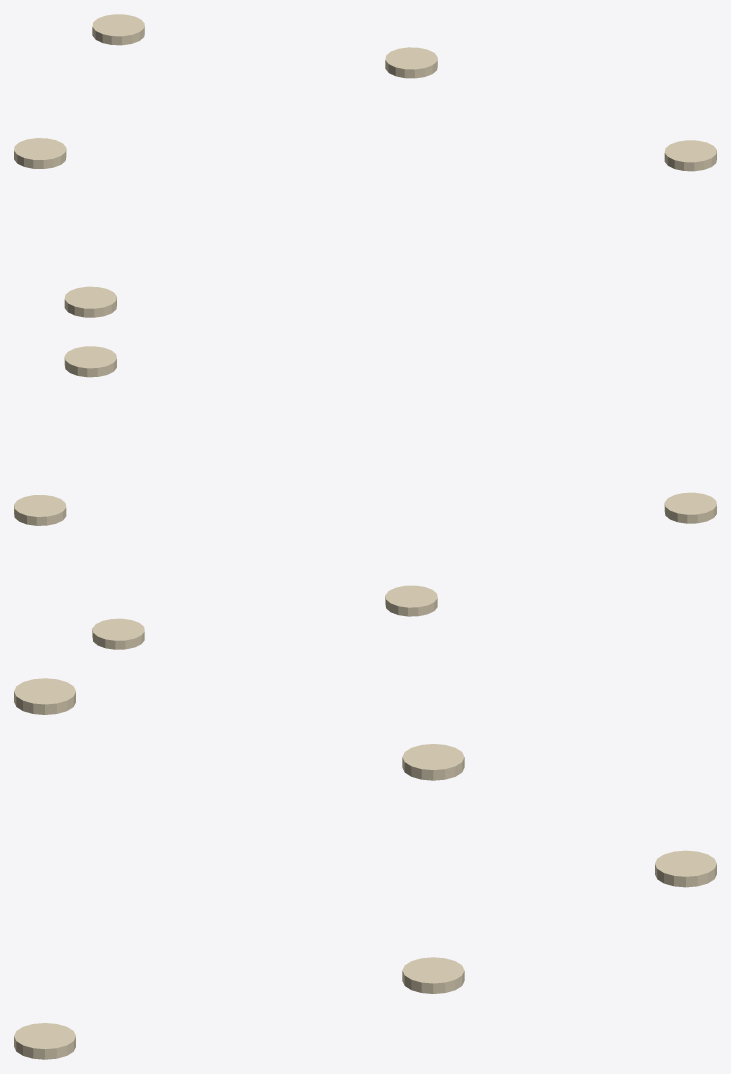
File: EggPedestals_Trim.fbx
3 renders of one model, top to bottom at view 1: azimuth 30°, elevation 25°; view 2: azimuth 150°, elevation 25°; view 3: azimuth 270°, elevation 25°, orthographic. The views are drawn at different scales.
Visible parts, largest first — view 1: Pedestal0.001; view 2: Pedestal0.001; view 3: Pedestal0.001.
Part boxes in pixels (x1,y1,x2,y2): Pedestal0.001: [14, 14, 716, 317]; Pedestal0.001: [14, 346, 716, 649]; Pedestal0.001: [14, 678, 716, 1059].
Bounding box in the file's own units: 9040 × 120 × 7240.
